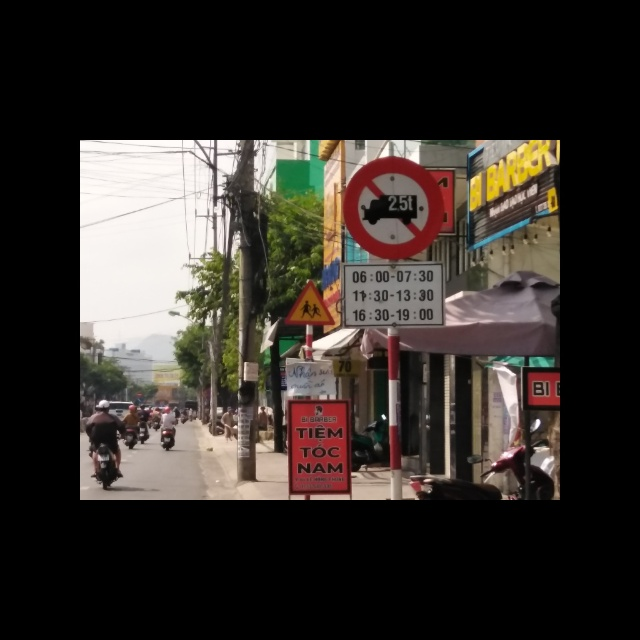Cấm xe tải: (340, 155, 447, 259)
Trẻ em ngang qua: (284, 277, 337, 324)
